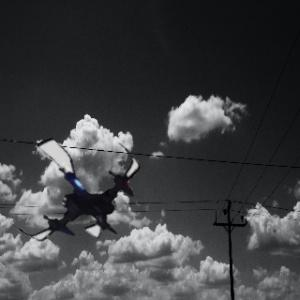drone: (5, 121, 146, 262)
